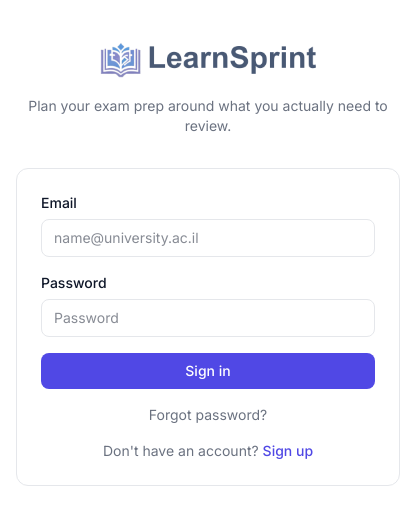
Test: LoginPage › shows the error when the credentials are rejected
Type "bar@example.com" into the field with placeholder "name@university.ac.il" at (208, 238), box [41,219,375,257]
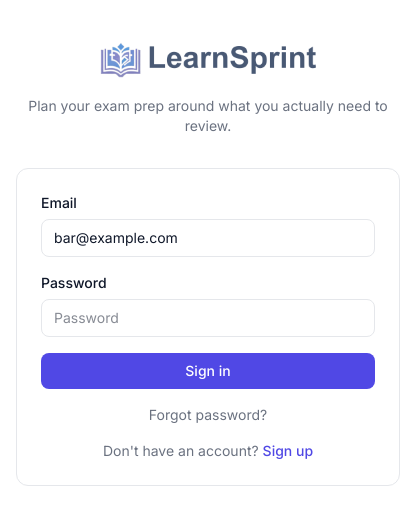
Type "wrongpass" into the password field with placeholder "Password" at (208, 318), box [41,299,375,337]
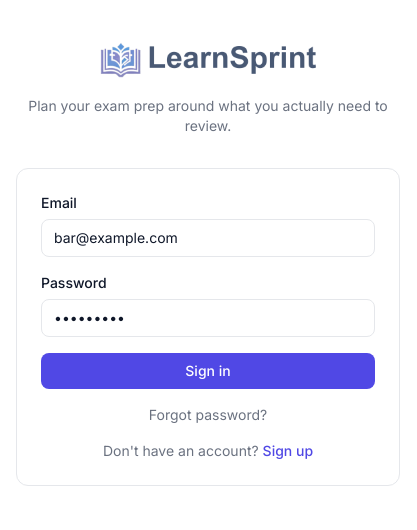
Click the button "Sign in" at (208, 371), box [41,353,375,389]
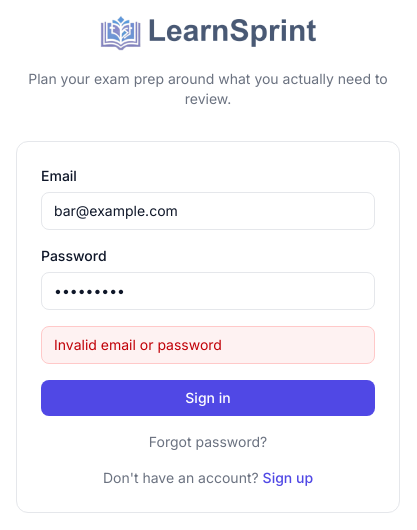
Now the message reads "Invalid email or password", box [54,336,222,353]
